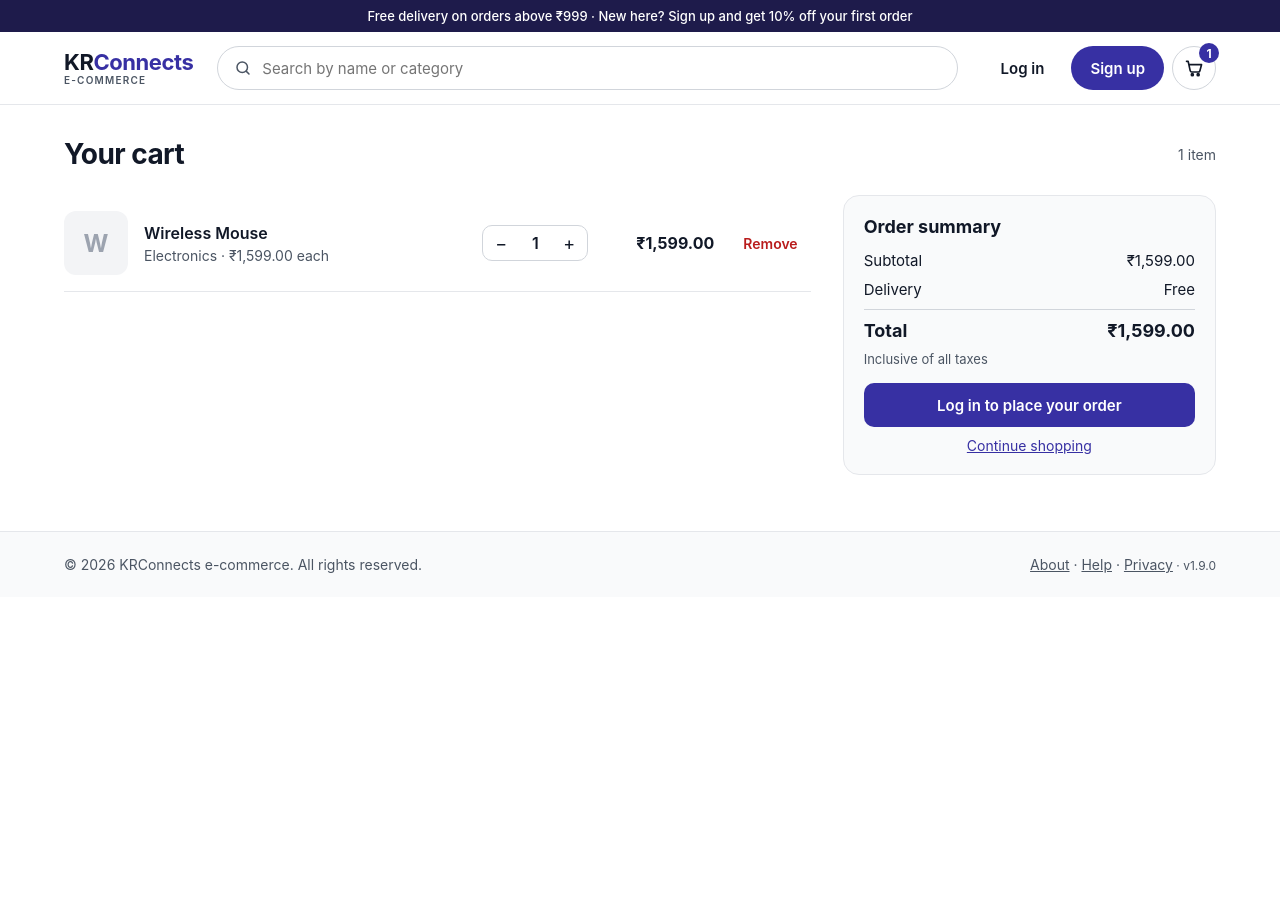
Test case: CartPage › Remove takes the product out of the cart
The image size is (1280, 900).
Check: the heading "Your cart" is shown, box top-left (64, 137), bottom-right (184, 171)
Click the button named "Remove Wireless Mouse" at (770, 243), box top-left (730, 225), bottom-right (811, 261)
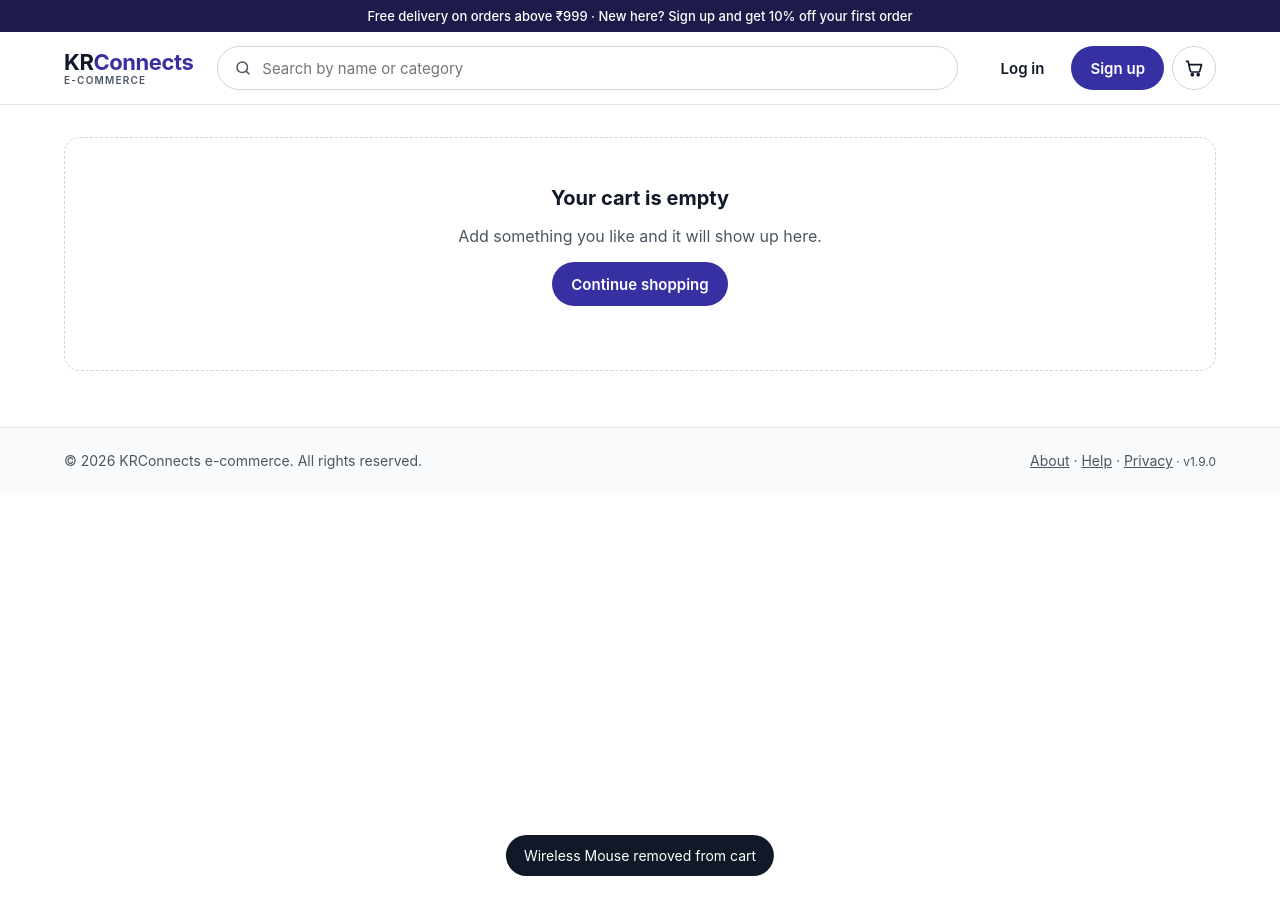
Check: the heading "Your cart is empty" is shown, box top-left (551, 186), bottom-right (729, 210)
